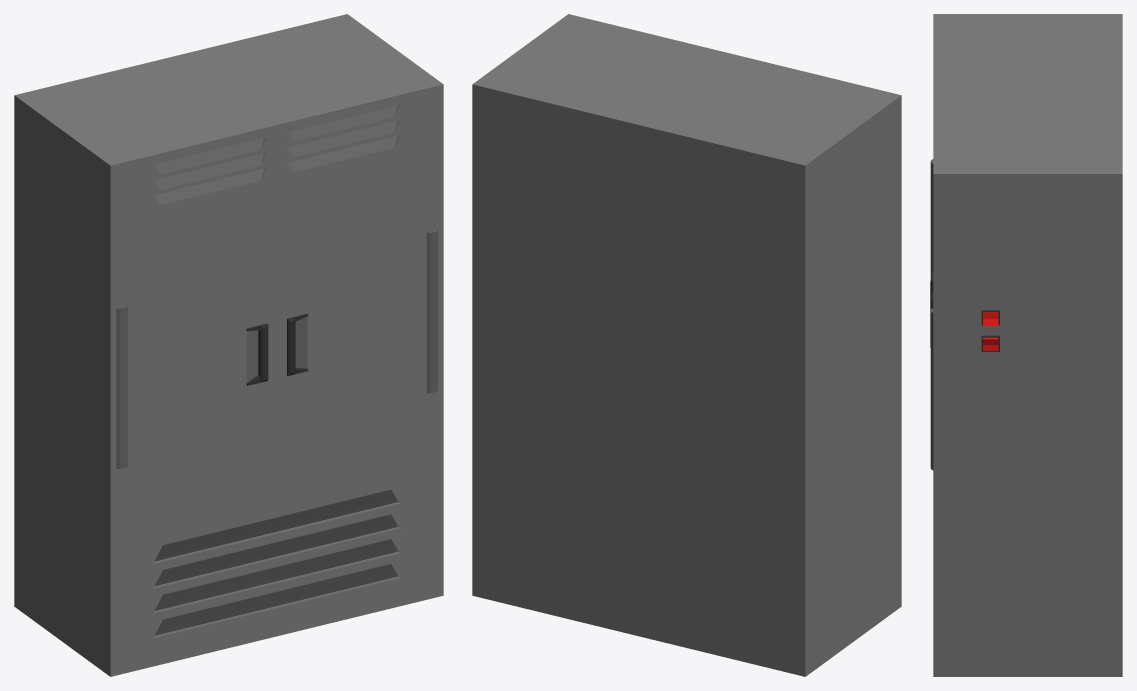
Rendered from Int_KitchenRefrigerator01.fbx.
The picture shows the model from 3 angles, left to right: view 1: azimuth 30°, elevation 25°; view 2: azimuth 150°, elevation 25°; view 3: azimuth 270°, elevation 25°; orthographic projection.
Parts seen in each view (by area): view 1: Int_KitchenRefrigerator01, Int_KitchenRefrigeratorDoor02, Int_KitchenRefrigeratorDoor01; view 2: Int_KitchenRefrigerator01; view 3: Int_KitchenRefrigerator01, Int_KitchenRefrigeratorDoor02, Int_KitchenRefrigeratorDoor01.
Boxes of the visible parts, <box> form: Int_KitchenRefrigerator01: <box>14,14,443,676</box>; Int_KitchenRefrigeratorDoor02: <box>277,157,437,502</box>; Int_KitchenRefrigeratorDoor01: <box>116,196,276,541</box>; Int_KitchenRefrigerator01: <box>472,14,901,676</box>; Int_KitchenRefrigerator01: <box>933,14,1122,676</box>; Int_KitchenRefrigeratorDoor02: <box>930,291,933,470</box>; Int_KitchenRefrigeratorDoor01: <box>930,159,933,294</box>.
Size of what is drawn, in the model's own units: 152 by 76.25 by 220.
